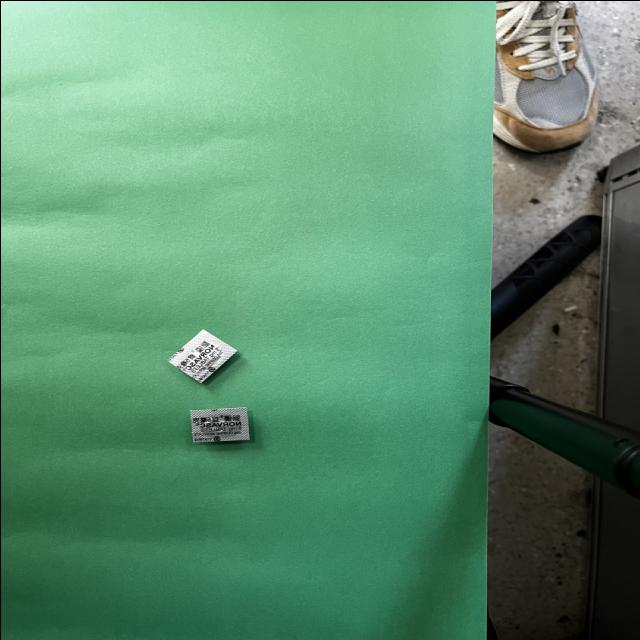Other Objects: (168, 328, 235, 382), (190, 406, 249, 441)
